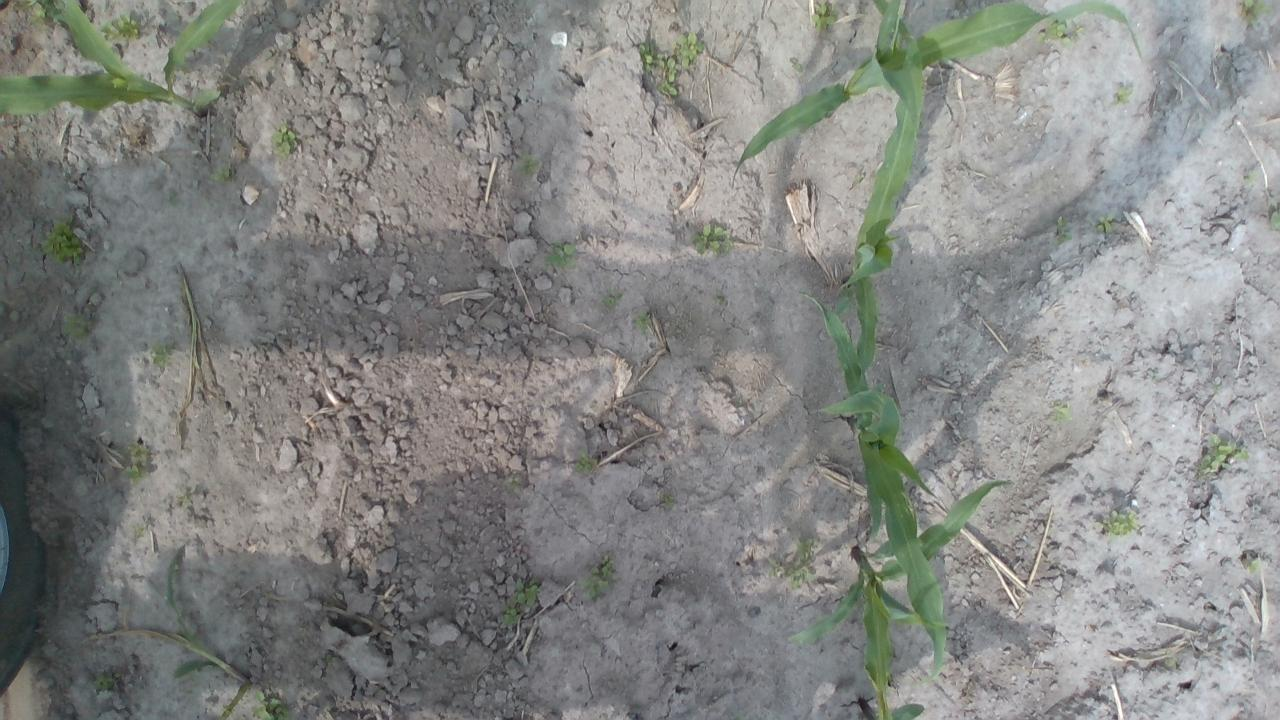Maize: (732, 0, 1145, 180), (787, 288, 951, 690), (786, 479, 1014, 718), (796, 62, 930, 395), (0, 0, 245, 120)
Weeds: (640, 34, 705, 106), (768, 534, 822, 590), (36, 217, 88, 268), (1194, 439, 1248, 488), (500, 576, 540, 630), (92, 13, 142, 50), (582, 556, 617, 604), (61, 308, 104, 344), (692, 224, 734, 257), (121, 441, 150, 482), (1103, 506, 1140, 538), (1036, 18, 1078, 46), (270, 126, 296, 158), (550, 243, 578, 270), (1238, 1, 1270, 23), (812, 4, 838, 31), (149, 338, 176, 364), (91, 675, 126, 693), (571, 450, 595, 473), (518, 154, 542, 172), (212, 165, 235, 183), (1054, 217, 1067, 246), (1114, 82, 1132, 102), (1098, 212, 1112, 232), (1056, 404, 1072, 421), (1267, 211, 1280, 229)
